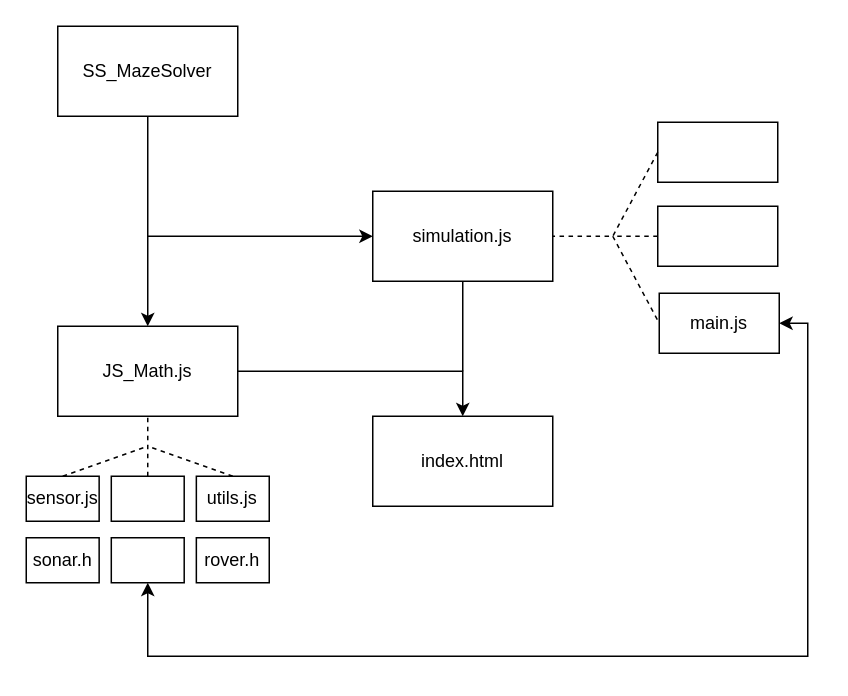
The diagram is 848 pixels wide and 696 high, and some of its shapes have lost their labels. Here are the shapes that lost their labels. From the top down, the centre of each, then its label:
point (717, 151): car.js
point (717, 235): road.js
point (147, 498): math.js
point (147, 559): (main.h)
